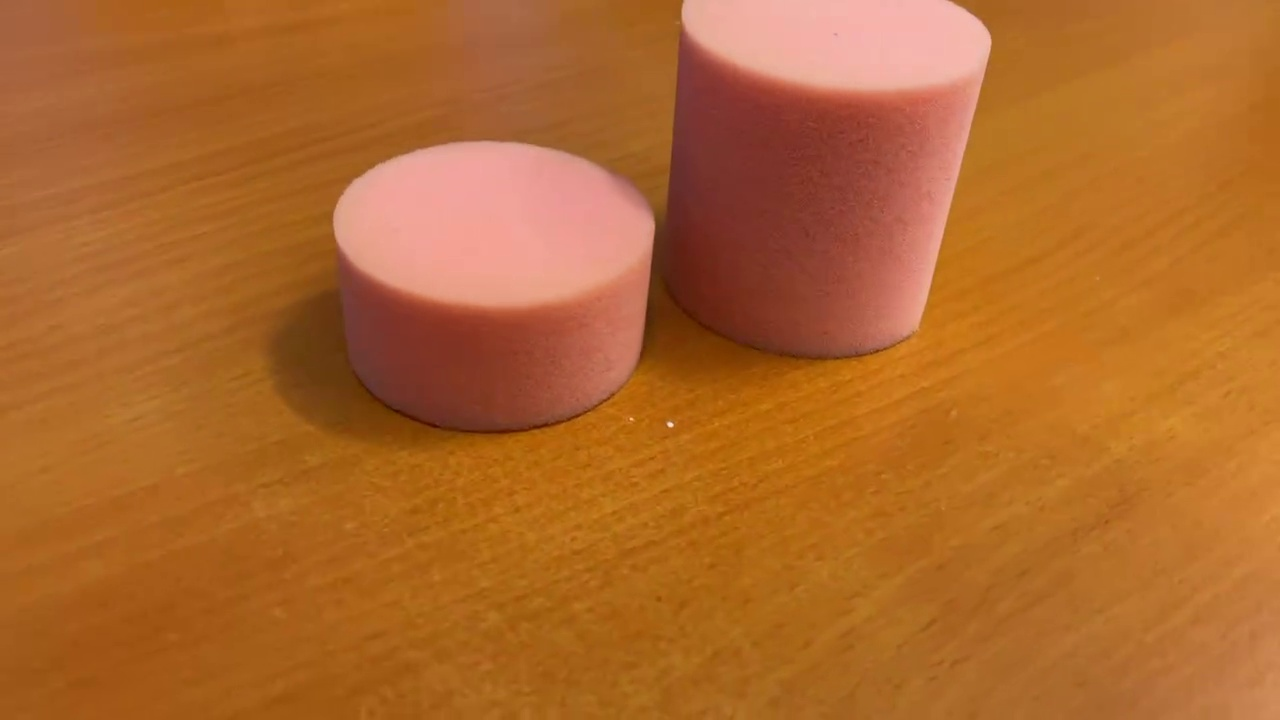Clyinder_short: (322, 126, 661, 437)
Cylinder: (651, 1, 1001, 367)
